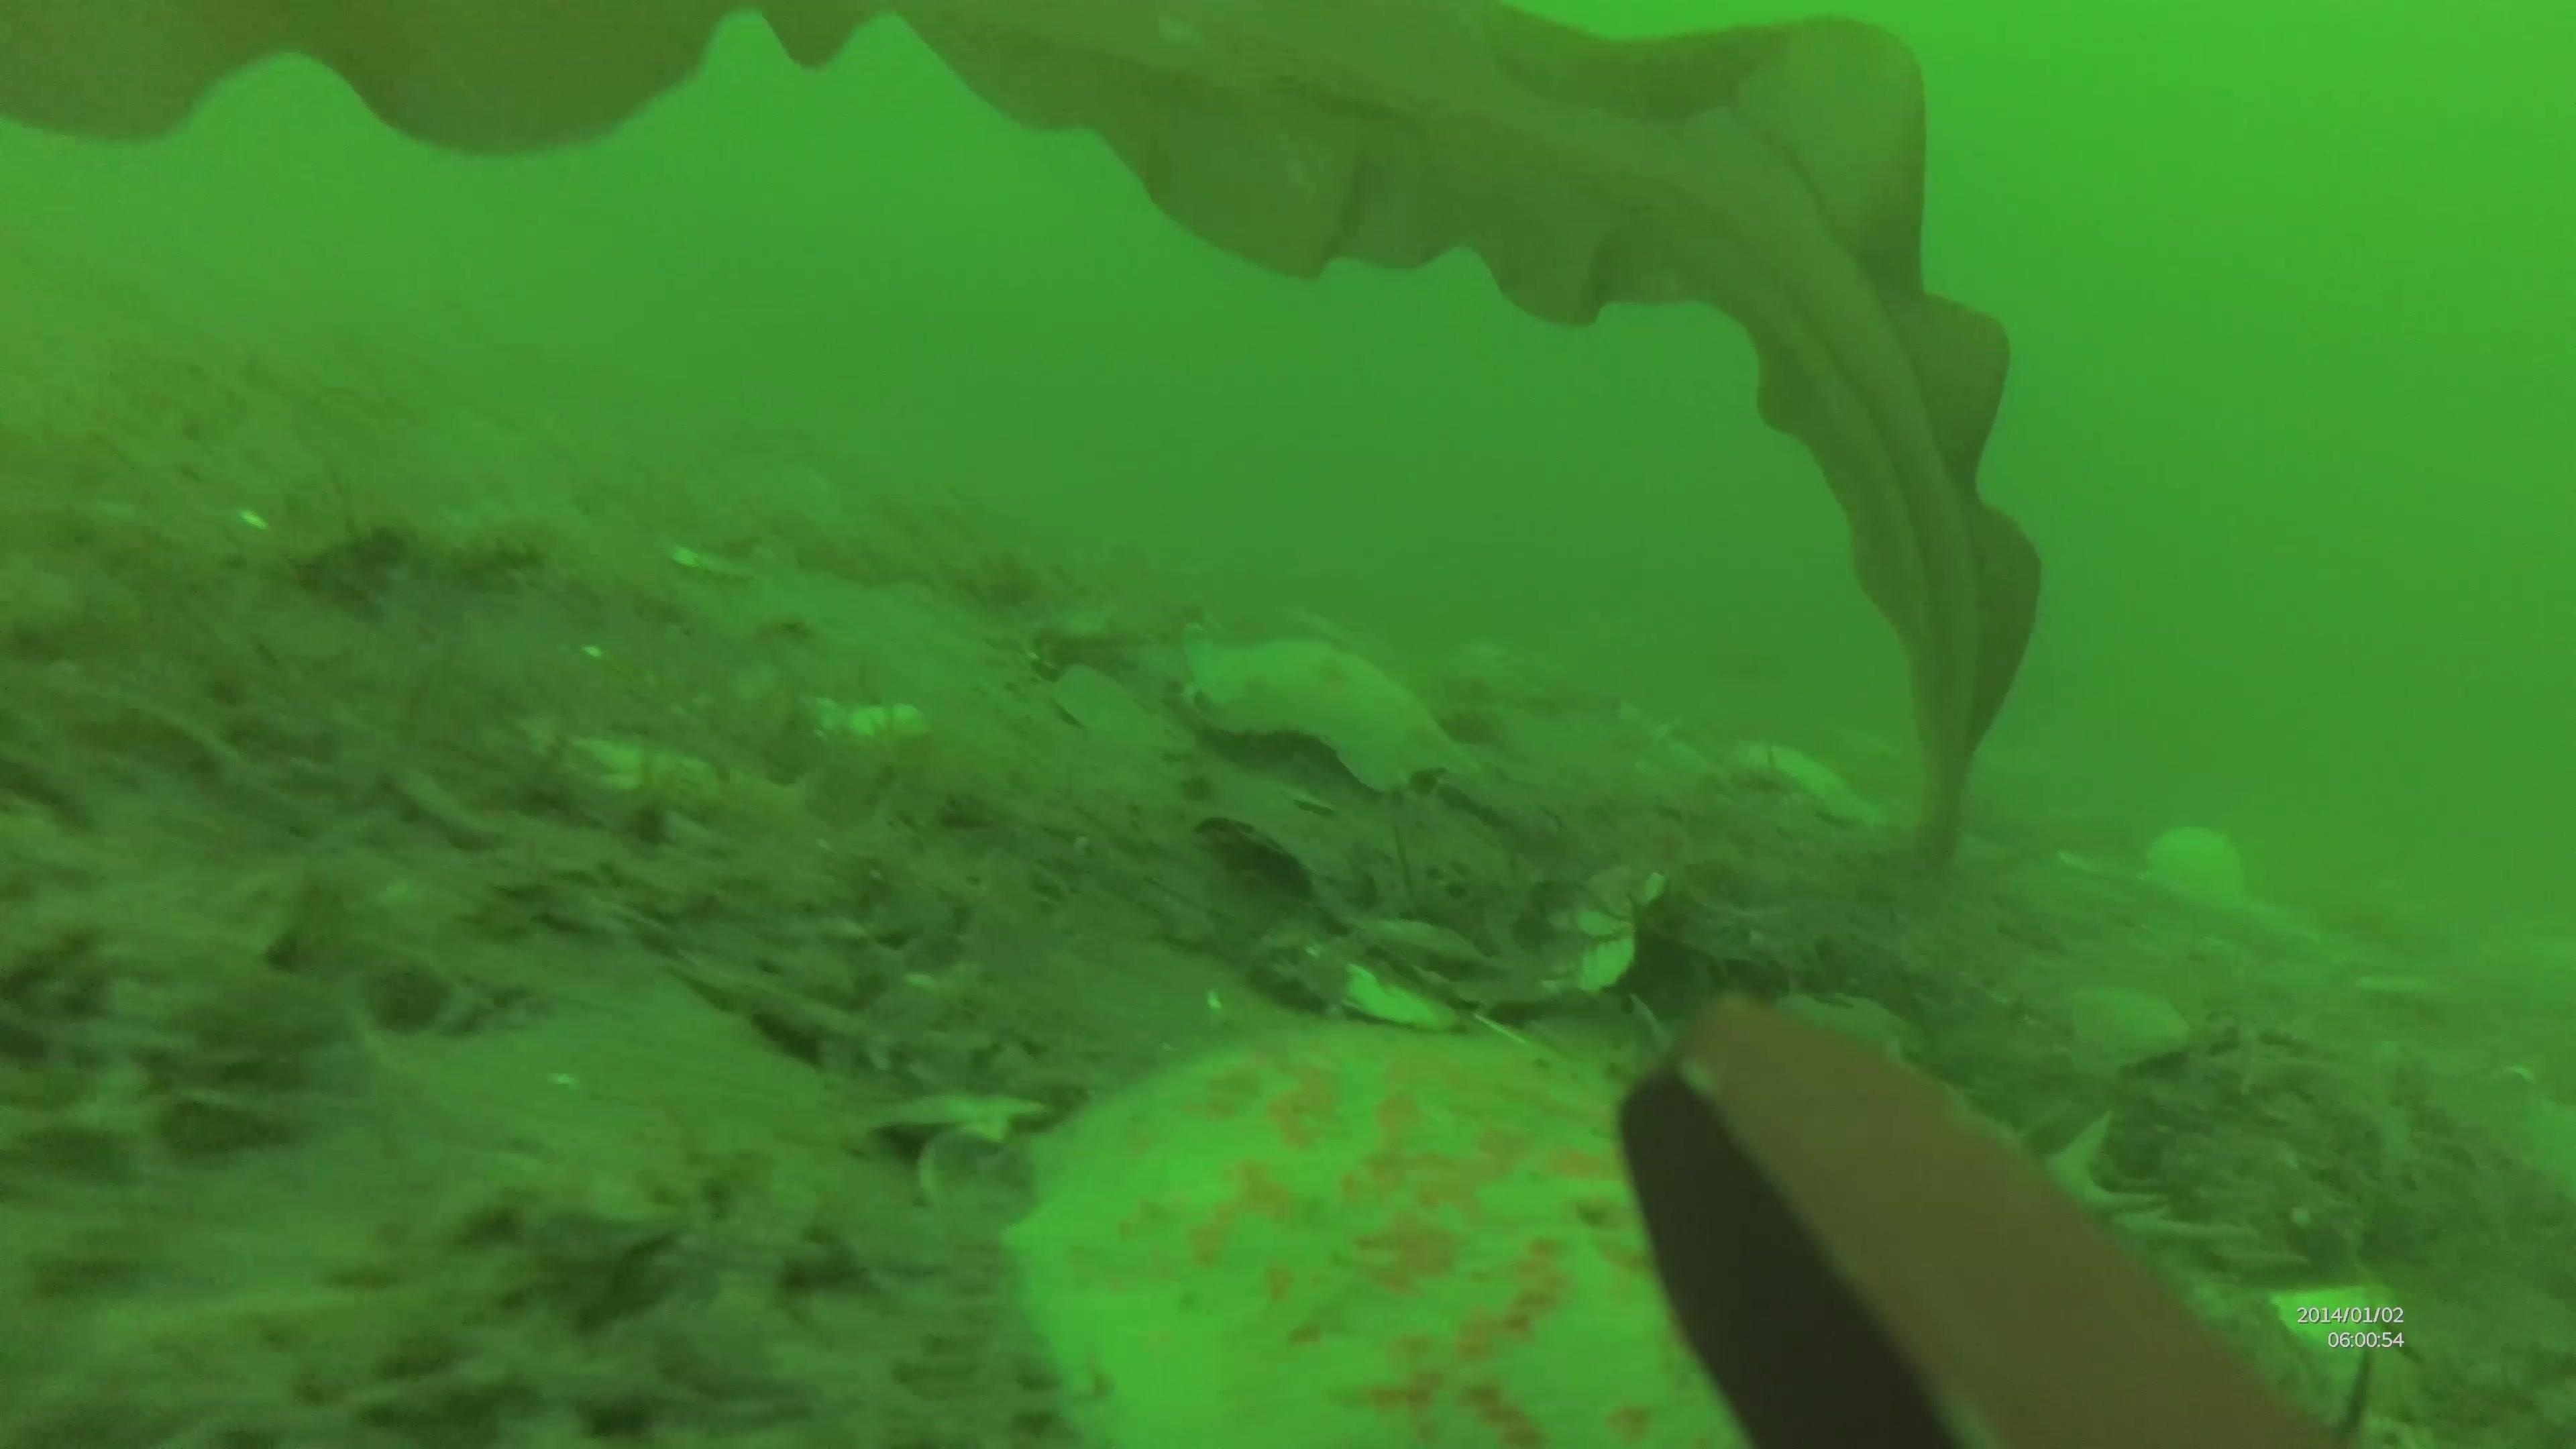starfish: (994, 1001, 1746, 1447), (1175, 619, 1468, 805), (1713, 731, 1900, 837)
